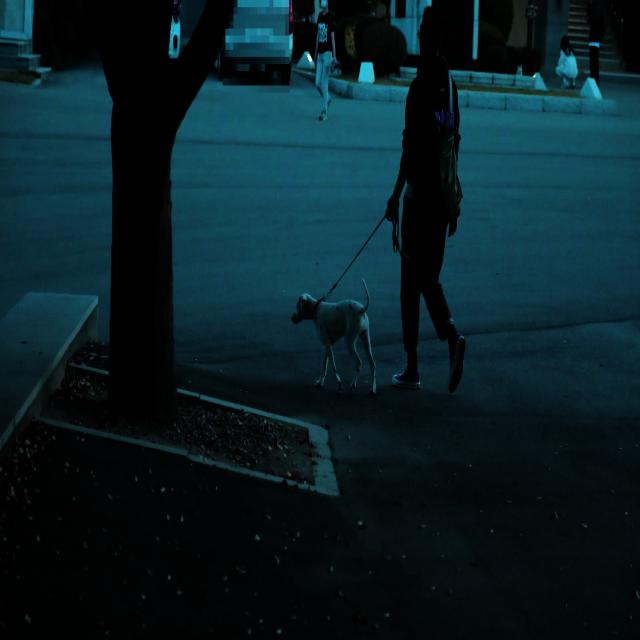Leashed_Dog: (292, 185, 419, 396)
